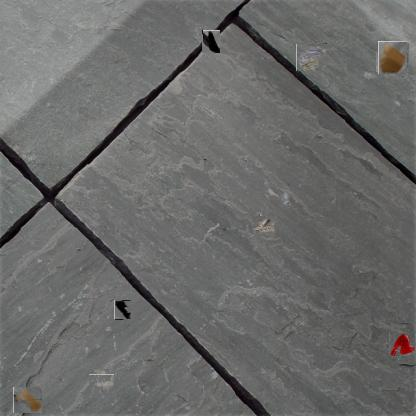dirty: (377, 42, 408, 73), (296, 43, 327, 71), (254, 213, 276, 235), (91, 372, 112, 392), (202, 30, 220, 53), (114, 300, 131, 320)
liquid: (14, 387, 42, 414), (389, 332, 415, 356)
